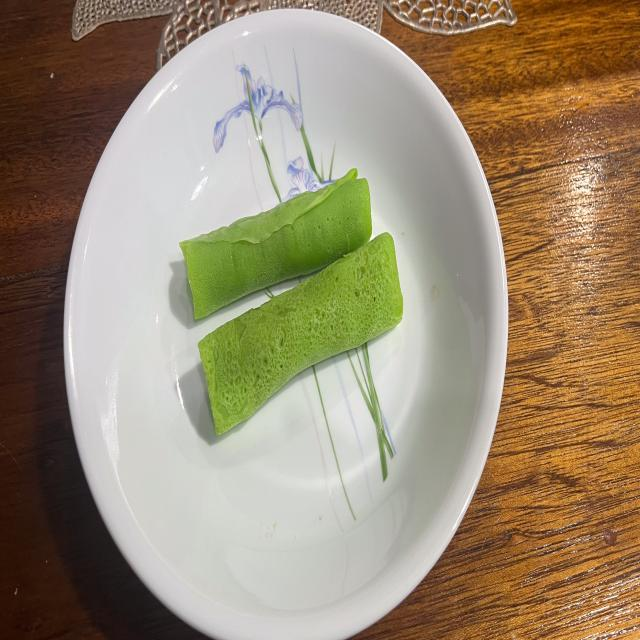Kuih-Ketayap: (199, 233, 402, 433), (180, 169, 371, 320)
